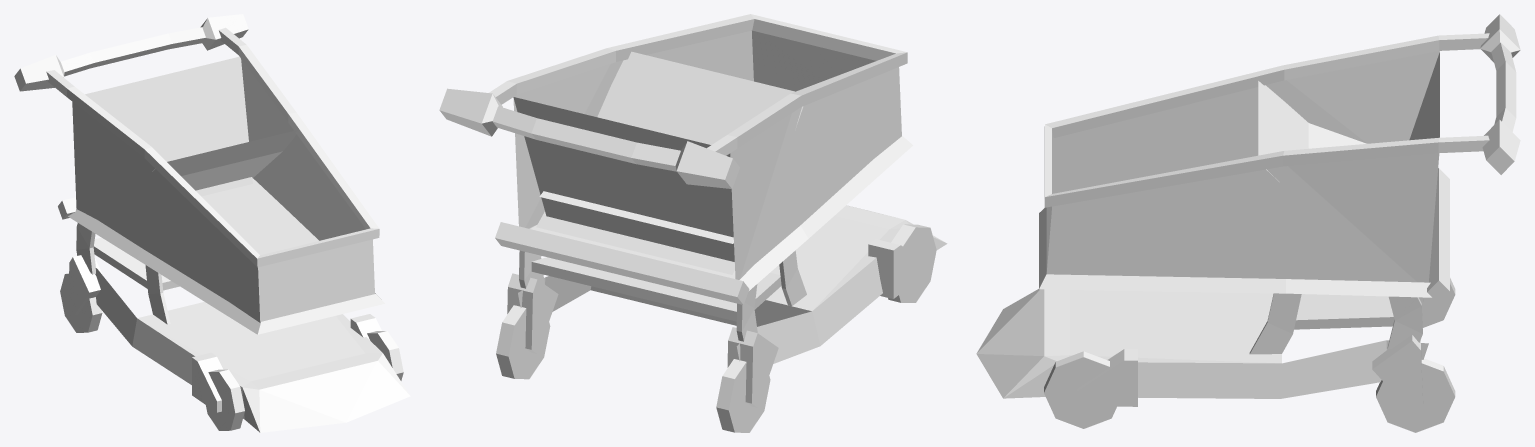
File: shoppingCart.glb
3 renders of one model, left to right at view 1: azimuth 30°, elevation 25°; view 2: azimuth 150°, elevation 25°; view 3: azimuth 270°, elevation 25°, orthographic. The views are drawn at different scales.
Parts seen in each view (by area): view 1: shopping_Cart; view 2: shopping_Cart; view 3: shopping_Cart.
Part boxes in pixels (<box>): shopping_Cart: <box>14,14,410,432</box>; shopping_Cart: <box>439,14,947,432</box>; shopping_Cart: <box>976,14,1520,432</box>.
Bounding box in the file's own units: 1.14 × 1.22 × 1.98.
Materials: 2 (2 with a texture image).
